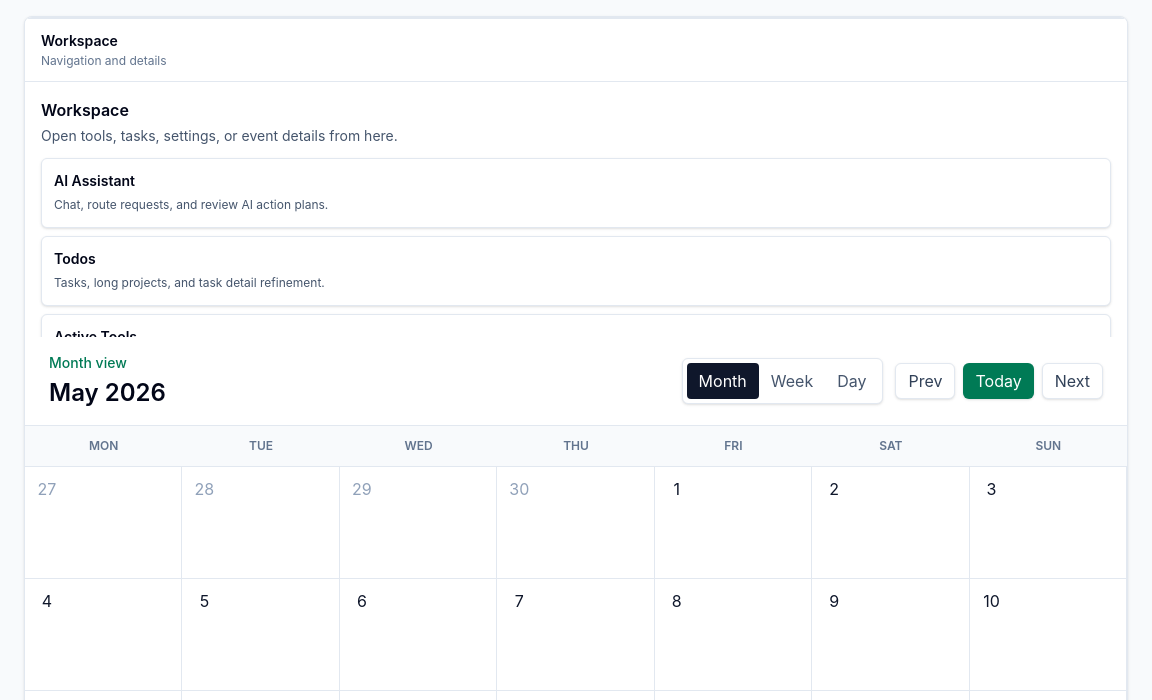
Test: Calendar views › navigates to the next visible date range
This screenshot has width=1152, height=700.
Step 1. Click the button with aria-label "Next date range" → (1072, 381), box [1042,363,1103,399]
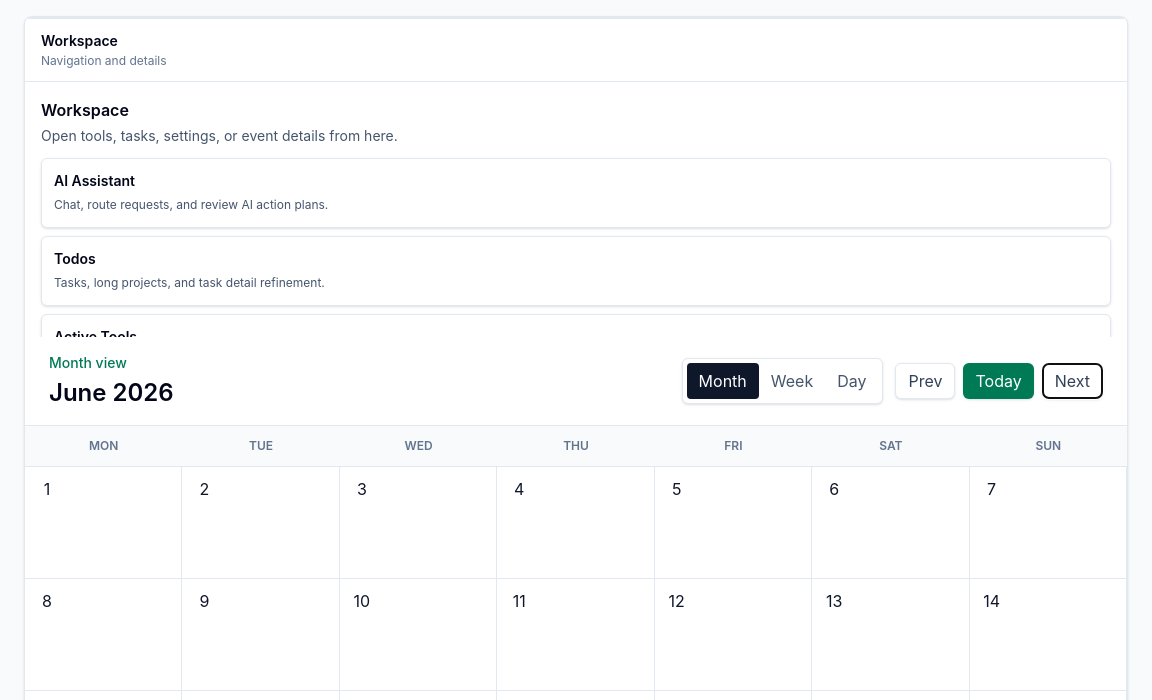
Check: the heading "June 2026" is shown, box [49,377,174,409]
